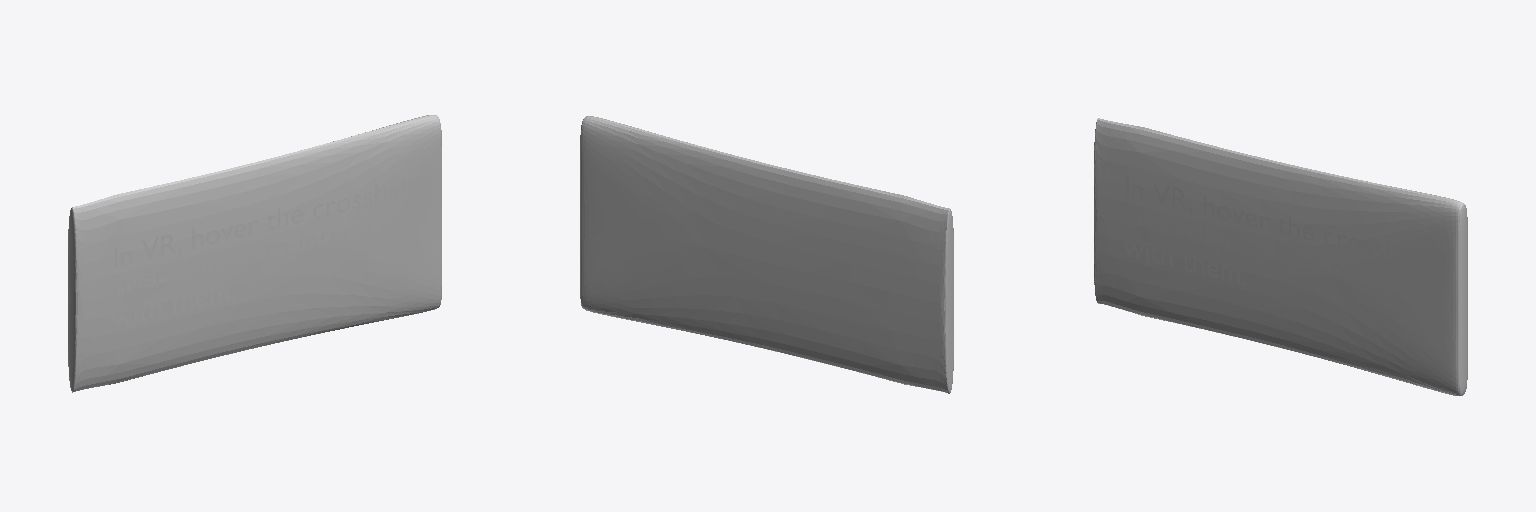
File: VRSign.obj
3 views of the same model, side by side, from view 1: azimuth 30°, elevation 25°; view 2: azimuth 150°, elevation 25°; view 3: azimuth 330°, elevation 25° (orthographic).
Parts seen in each view (by area): view 1: Cube, Text; view 2: Cube; view 3: Cube, Text.
Boxes of the visible parts, x1,y1,x2,y2 form: Cube: [68, 115, 441, 392]; Text: [112, 179, 417, 326]; Cube: [580, 116, 953, 393]; Cube: [1094, 118, 1467, 395]; Text: [1124, 176, 1428, 291].
Size of the model in its own units: 4.29 by 2.17 by 0.2572.